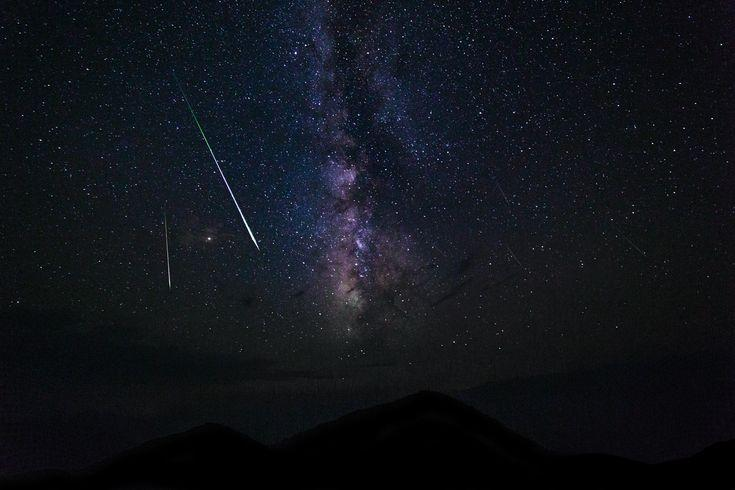meteor: (247, 236, 269, 254), (163, 278, 180, 293)
